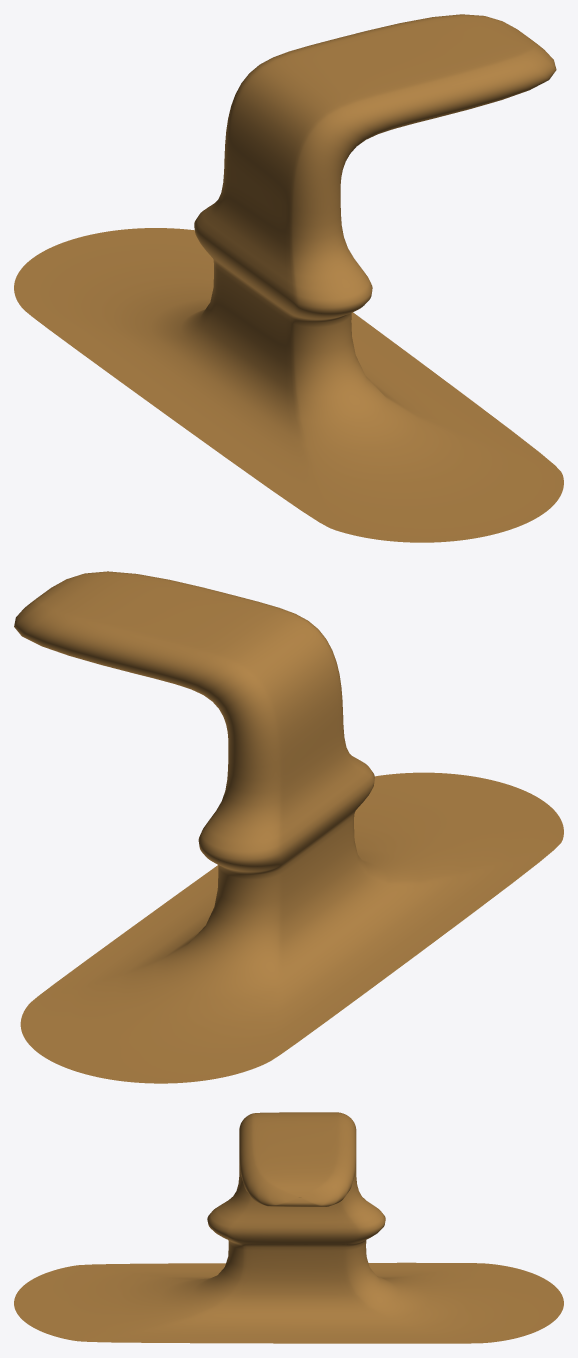
The model's file is door_handle.obj.
3 renders of one model, top to bottom at view 1: azimuth 30°, elevation 25°; view 2: azimuth 150°, elevation 25°; view 3: azimuth 270°, elevation 25°, orthographic. The views are drawn at different scales.
Visible parts, largest first — view 1: Circle; view 2: Circle; view 3: Circle.
Boxes of the visible parts, box(x1,y1,x2,y2) form: Circle: box(14, 14, 563, 542); Circle: box(14, 571, 563, 1083); Circle: box(14, 1112, 563, 1343).
Bounding box in the file's own units: 306 × 229 × 571.
1 material, 1 textured.
